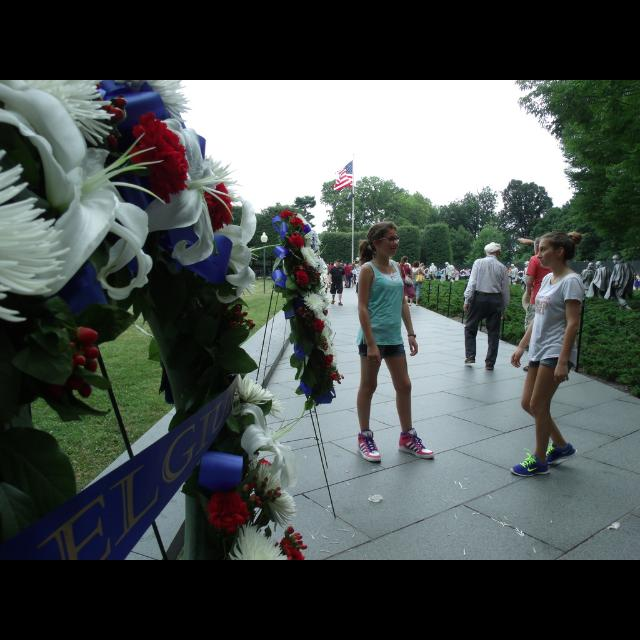Flower: (146, 195, 308, 560), (0, 80, 156, 418), (144, 118, 238, 266), (276, 210, 344, 400)
